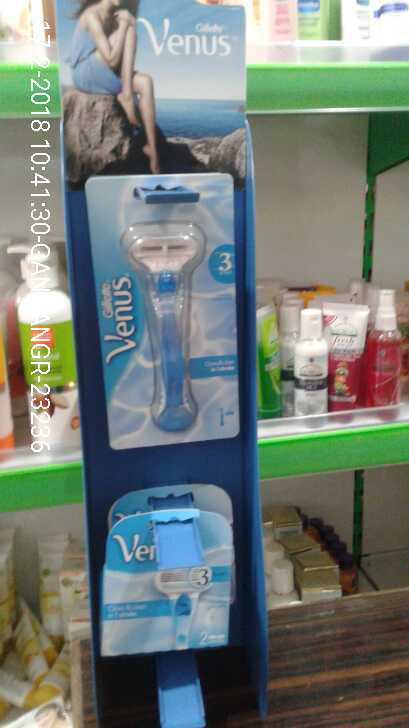venus: (89, 169, 244, 447), (100, 508, 249, 659)
